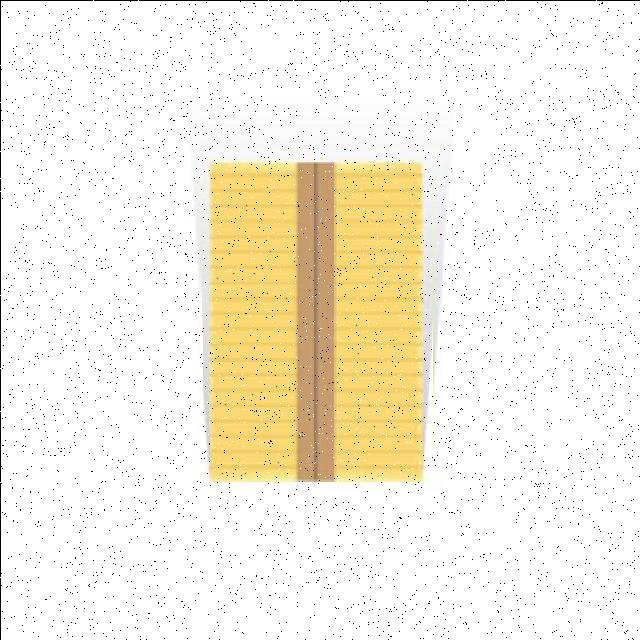normal: (202, 155, 432, 488)
